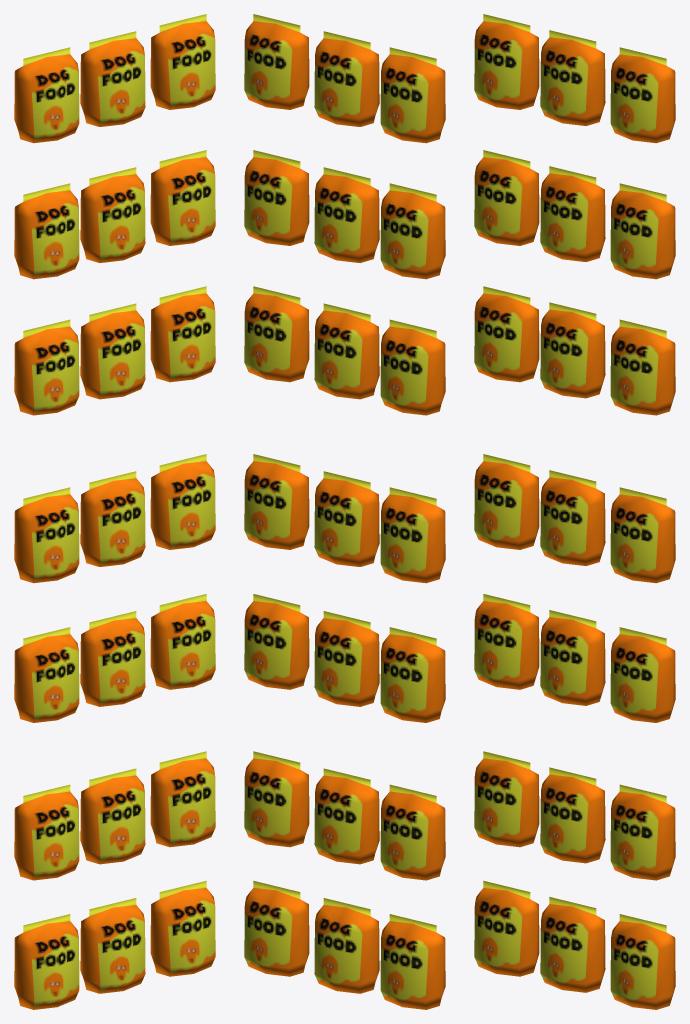
The model's file is Dog_Food.fbx.
3 views of the same model, side by side, from view 1: azimuth 30°, elevation 25°; view 2: azimuth 150°, elevation 25°; view 3: azimuth 330°, elevation 25° (orthographic).
Parts seen in each view (by area): view 1: Dog_Food_Group; view 2: Dog_Food_Group; view 3: Dog_Food_Group.
Part boxes in pixels (box(x1,y1,x2,y2)): Dog_Food_Group: box(14, 14, 215, 1009); Dog_Food_Group: box(244, 14, 445, 1009); Dog_Food_Group: box(474, 14, 675, 1009).
Size of the model in its own units: 1.7 by 7.76 by 0.4223.
